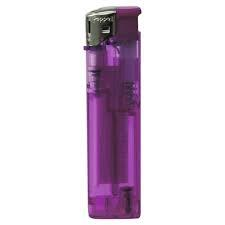lighter: (84, 5, 145, 219)
